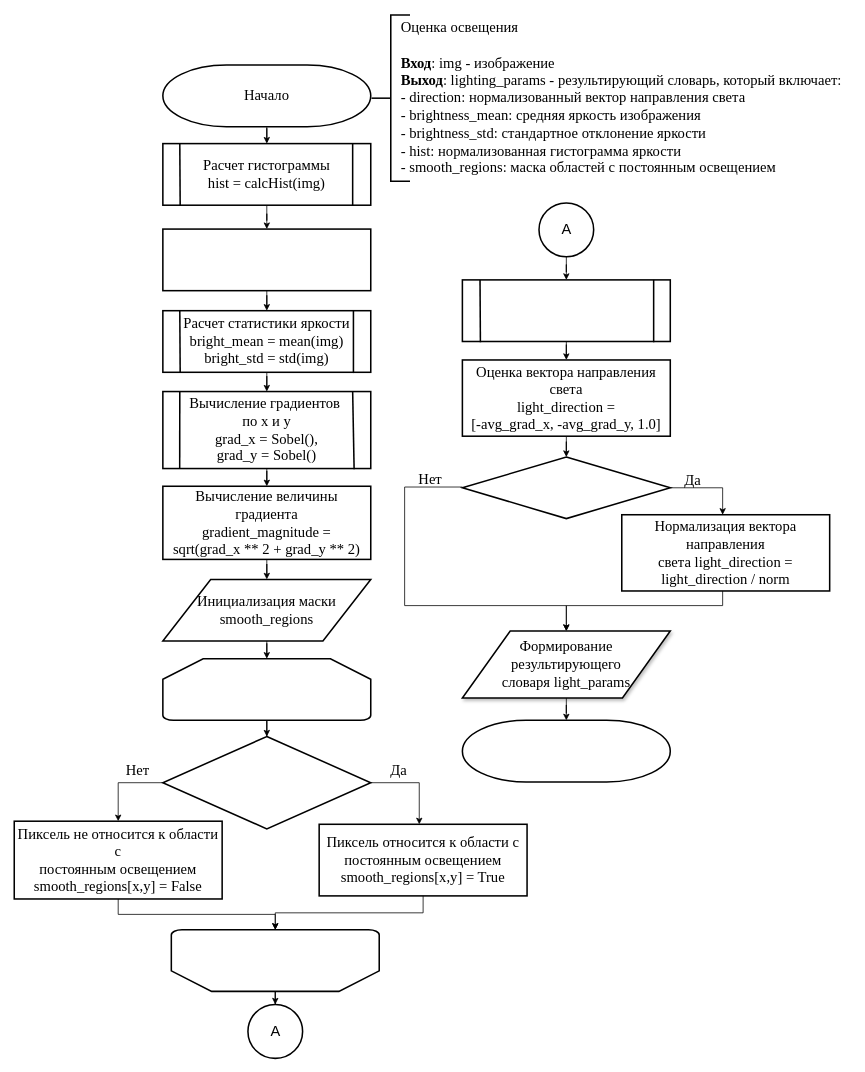
Some shapes in this 865 by 1072 pixel diagram are drawn without their labels. Here are the shapes that lost their labels. From the top down, the centre of each, then its label:
At point 266,259: "Нормализация гистограммы hist_normalized = hist / image_size".
At point 566,310: "Расчет средних градиентов avg_grad_x = mean(grad_x) avg_grad_y = mean(grad_y)".
At point 566,487: "norm(light_direction) > 0".
At point 266,689: "Цикл по всем пикселям изображения х, у".
At point 566,750: "Конец".
At point 266,782: "gradient_magnitude[x,y] < порог".
At point 275,960: "Конец цикла по всем пикселям изображения".
